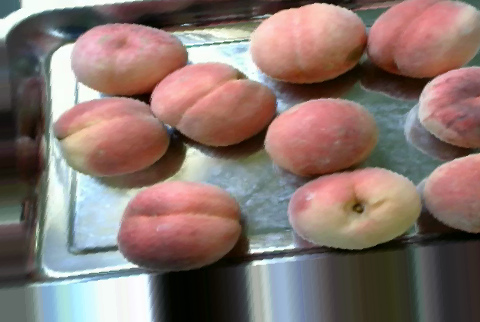Peach: (117, 179, 241, 270), (148, 61, 276, 148), (289, 166, 417, 248), (52, 97, 171, 179), (249, 2, 365, 83), (70, 22, 190, 96), (266, 97, 378, 176), (367, 0, 479, 77), (418, 67, 480, 148)
